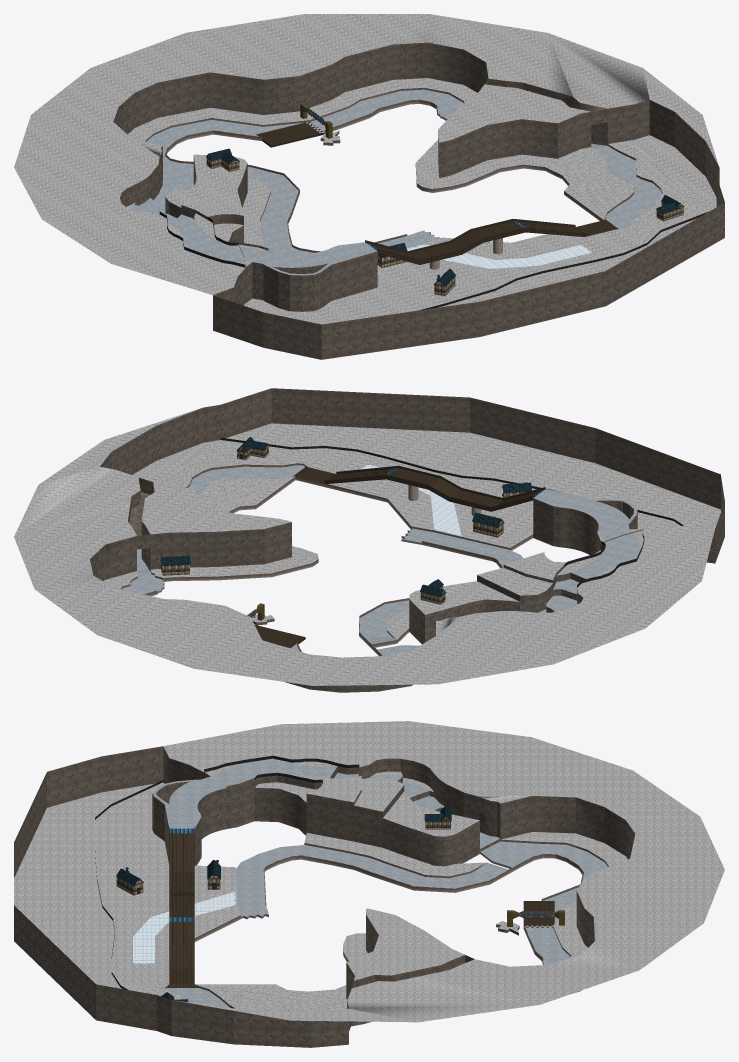
The picture shows the model from 3 angles, top to bottom: view 1: azimuth 30°, elevation 25°; view 2: azimuth 150°, elevation 25°; view 3: azimuth 270°, elevation 25°; orthographic projection. The views are drawn at different scales.
Visible parts, largest first — view 1: off_road, wall.002, main_road, wood, wall_water, alt_road, fence.001, house_roof, house_wall_1; view 2: off_road, wall.002, main_road, wood, wall_water, fence.001, house_roof, alt_road, house_wall_2, house_wall_1; view 3: off_road, wall.002, main_road, wood, wall_water, alt_road, fence.001, house_roof.
Boxes of the visible parts, x1,y1,x2,y2 form: off_road: (14, 14, 719, 324); wall.002: (113, 42, 724, 359); main_road: (130, 89, 661, 275); wood: (256, 122, 618, 264); wall_water: (145, 88, 662, 252); alt_road: (407, 244, 591, 268); fence.001: (159, 211, 709, 310); house_roof: (206, 148, 684, 286); house_wall_1: (206, 154, 683, 295); off_road: (14, 408, 720, 685); wall.002: (90, 388, 724, 692); main_road: (122, 465, 640, 655); wood: (255, 465, 545, 647); wall_water: (120, 463, 533, 656); fence.001: (220, 438, 683, 587); house_roof: (160, 437, 531, 599); alt_road: (361, 465, 461, 535); house_wall_2: (161, 446, 525, 600); house_wall_1: (161, 444, 504, 604); off_road: (14, 721, 724, 1022); wall.002: (14, 746, 635, 1047); main_road: (152, 760, 607, 1007); wood: (167, 826, 554, 987); wall_water: (165, 839, 608, 1026); alt_road: (133, 892, 235, 963); fence.001: (95, 755, 359, 989); house_roof: (116, 806, 451, 1002).
Size of what is drawn, in the model's own units: 86136 by 6284 by 85926.
Materials: 18 (18 with a texture image).
